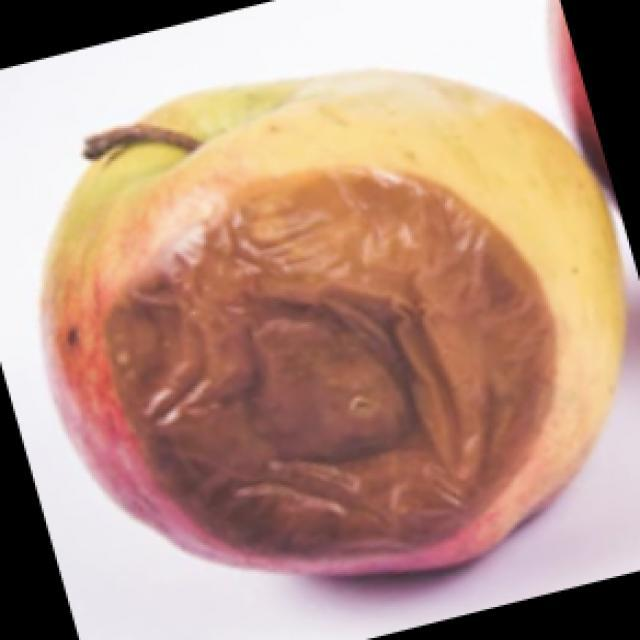Rotten: (62, 60, 620, 573)
